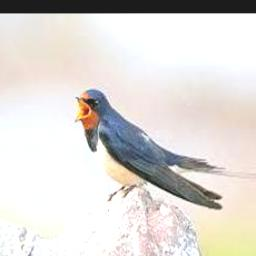Swallow: (75, 90, 225, 210)
